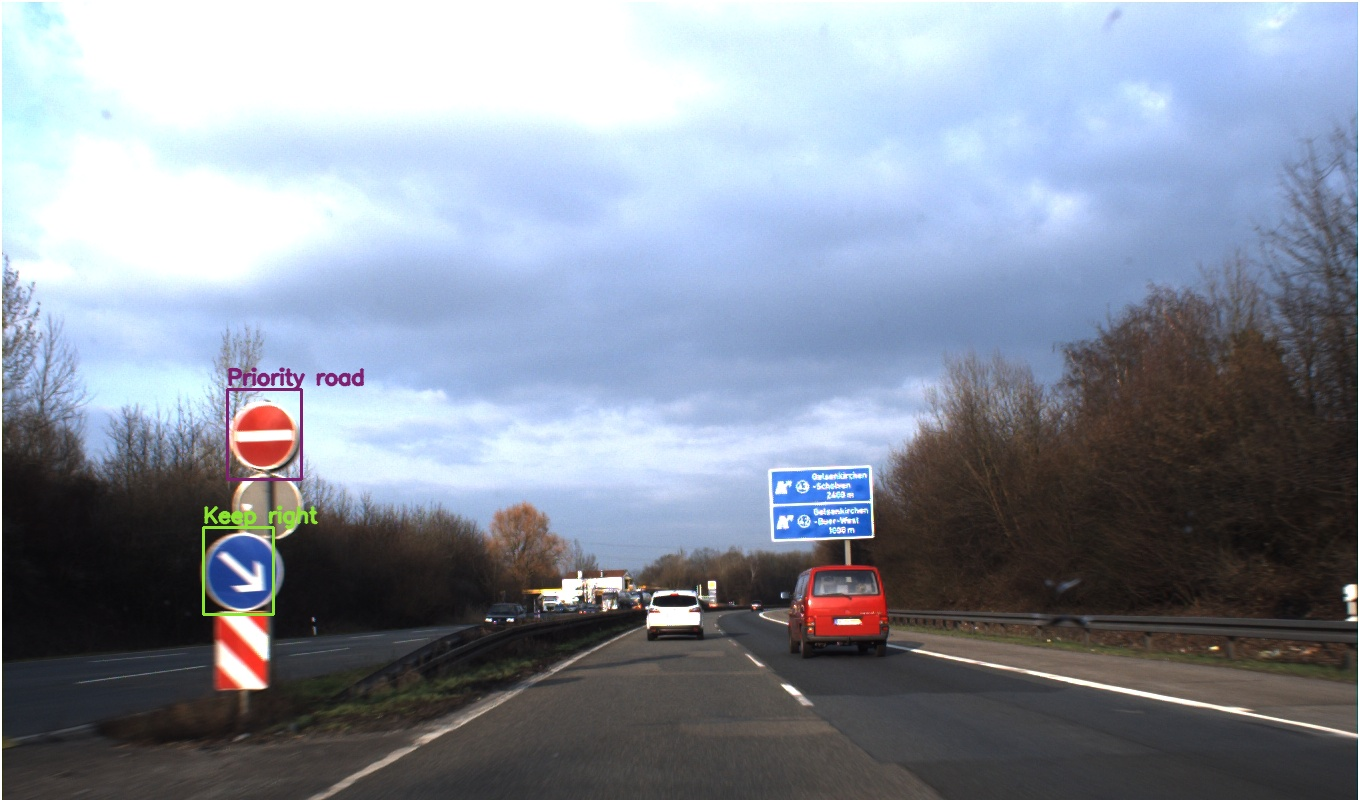Stop: (1091, 304, 1146, 359)
